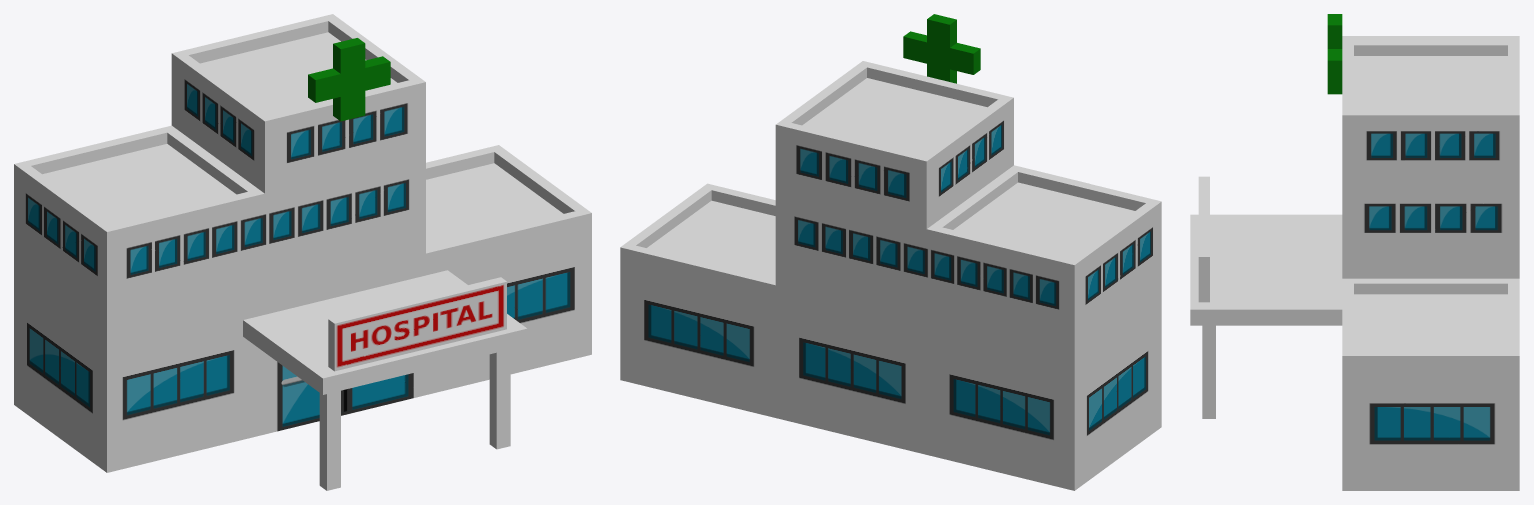
Rendered from hospital.fbx.
The picture shows the model from 3 angles, left to right: view 1: azimuth 30°, elevation 25°; view 2: azimuth 150°, elevation 25°; view 3: azimuth 270°, elevation 25°; orthographic projection. The views are drawn at different scales.
Visible parts, largest first — view 1: Cube; view 2: Cube; view 3: Cube.
Boxes of the visible parts, box(x1,y1,x2,y2) form: Cube: box(14, 14, 591, 490); Cube: box(620, 14, 1161, 490); Cube: box(1190, 14, 1519, 490).
Size of the model in its own units: 602 by 444 by 371.
1 material, 1 textured.
